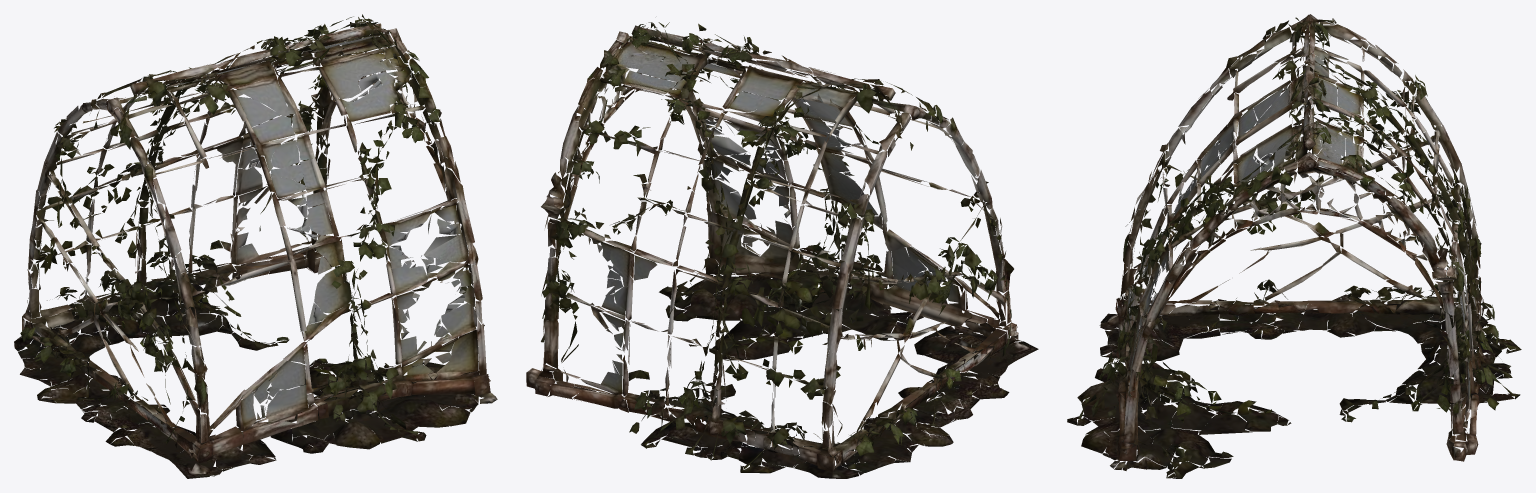
Rendered from p_greenhouse_arch.glb.
3 views of the same model, side by side, from view 1: azimuth 30°, elevation 25°; view 2: azimuth 150°, elevation 25°; view 3: azimuth 270°, elevation 25° (orthographic). The views are drawn at different scales.
Visible parts, largest first — view 1: tripo_node_82fd7cf4-b1b9-46f2-a311-69adfd5f5a2d; view 2: tripo_node_82fd7cf4-b1b9-46f2-a311-69adfd5f5a2d; view 3: tripo_node_82fd7cf4-b1b9-46f2-a311-69adfd5f5a2d.
Part boxes in pixels (x1=…): tripo_node_82fd7cf4-b1b9-46f2-a311-69adfd5f5a2d: x1=14, y1=14, x2=497, y2=478; tripo_node_82fd7cf4-b1b9-46f2-a311-69adfd5f5a2d: x1=526, y1=22, x2=1038, y2=478; tripo_node_82fd7cf4-b1b9-46f2-a311-69adfd5f5a2d: x1=1067, y1=14, x2=1521, y2=478.
Size of the model in its own units: 0.9311 by 0.8018 by 0.981.
1 material, 1 textured.
